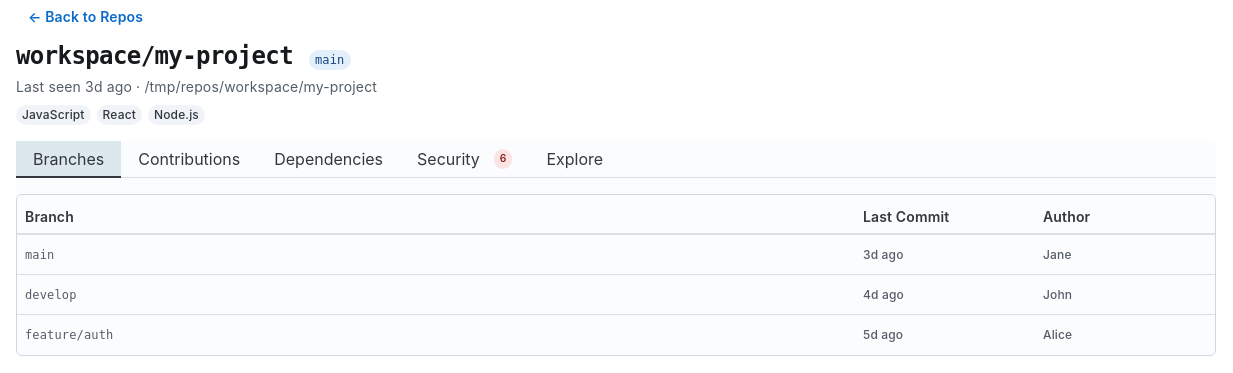
Test: AdminRepoDetailPage › switches to Dependencies tab on click
Check: the heading "workspace/my-project" is shown, box [16, 40, 293, 72]
Click the tab "Dependencies" at (329, 159), box [257, 141, 400, 177]
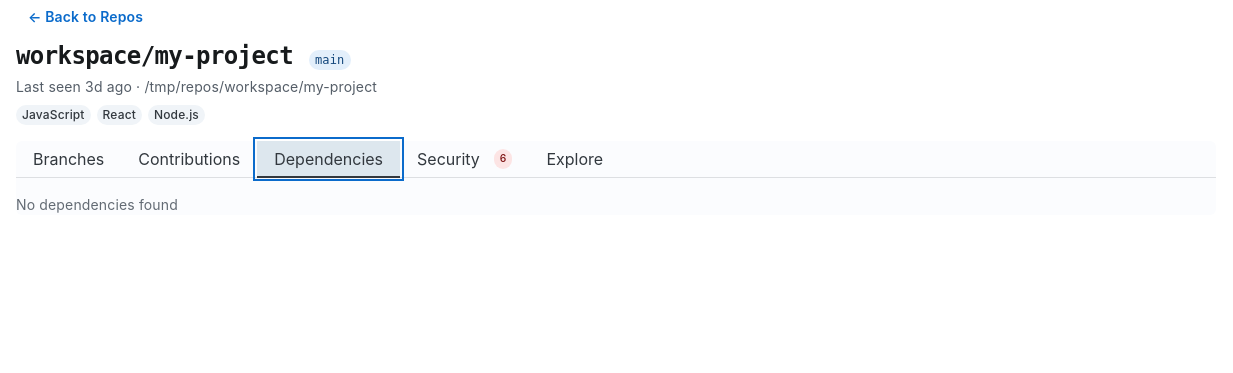
Check: the text "No dependencies found" is shown, box [16, 196, 178, 213]
